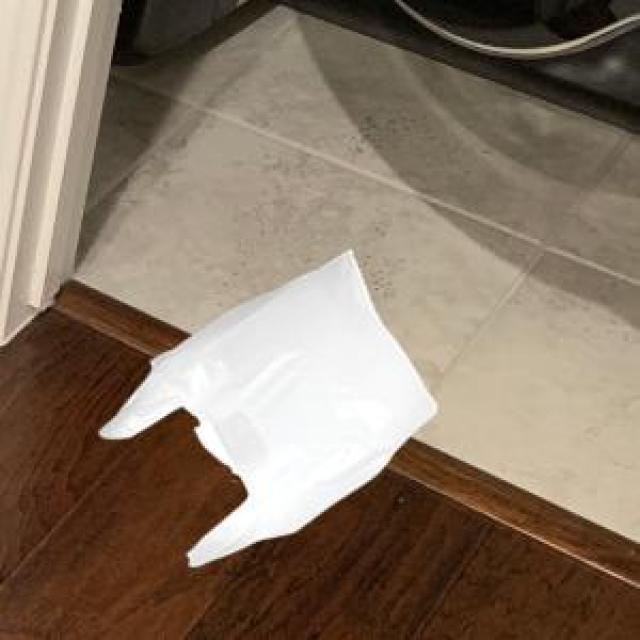waste: (100, 250, 436, 567)
